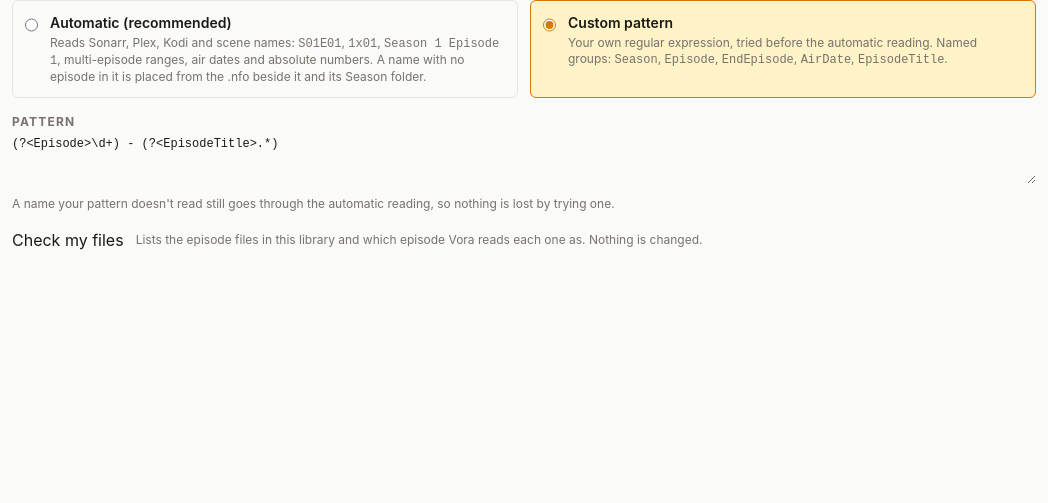
Test: offers Automatic when it would read a custom pattern library better
Click the button "Check my files" at [68, 240], box [12,228,124,252]
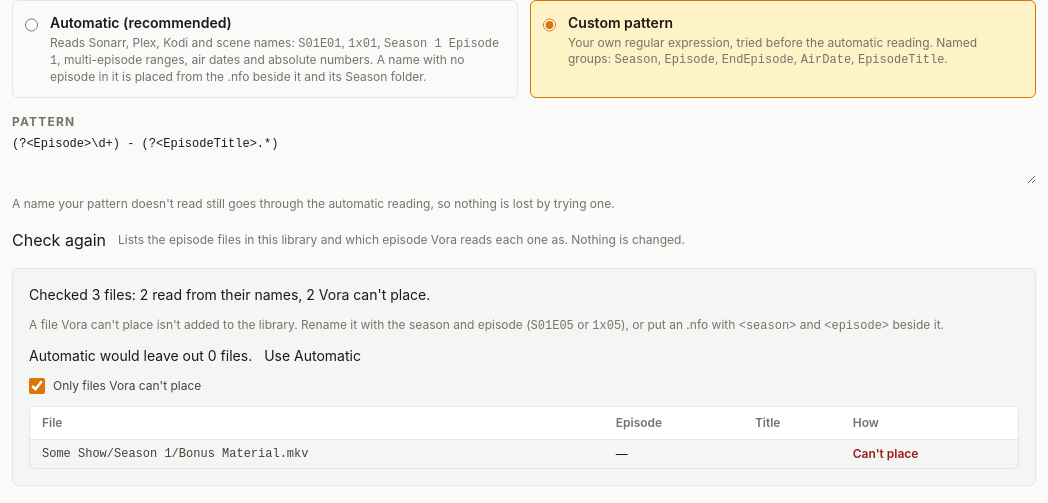
Click the button "Use Automatic" at [313, 356], box [264,346,361,366]
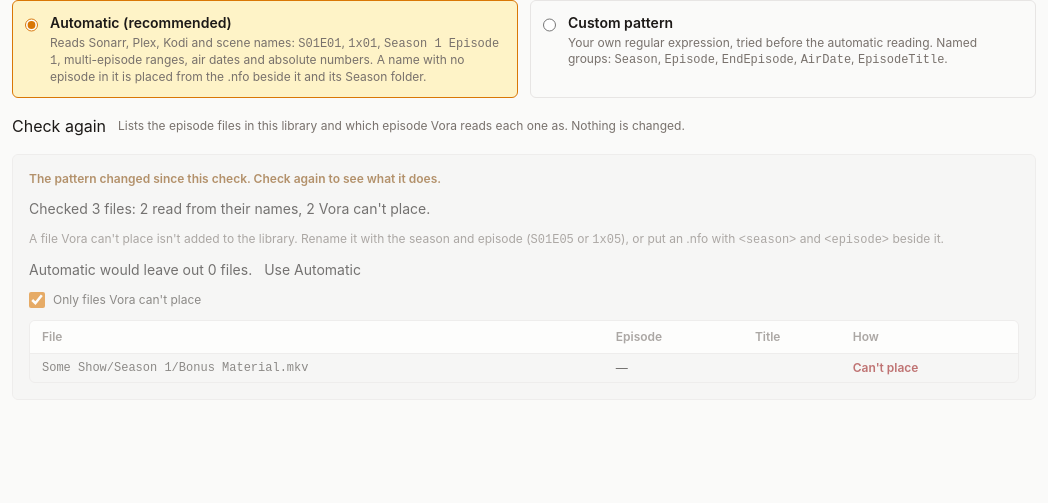
Expected: the radio button labelled "Automatic" is checked, [25,17,38,33]
